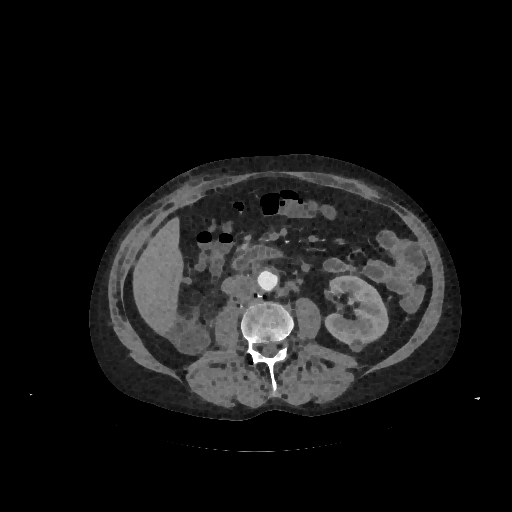Lesion: (345, 336, 365, 356)
